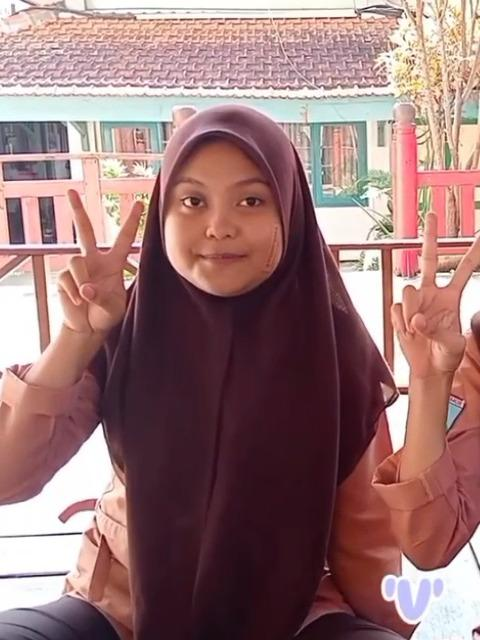V: (49, 176, 147, 336)
